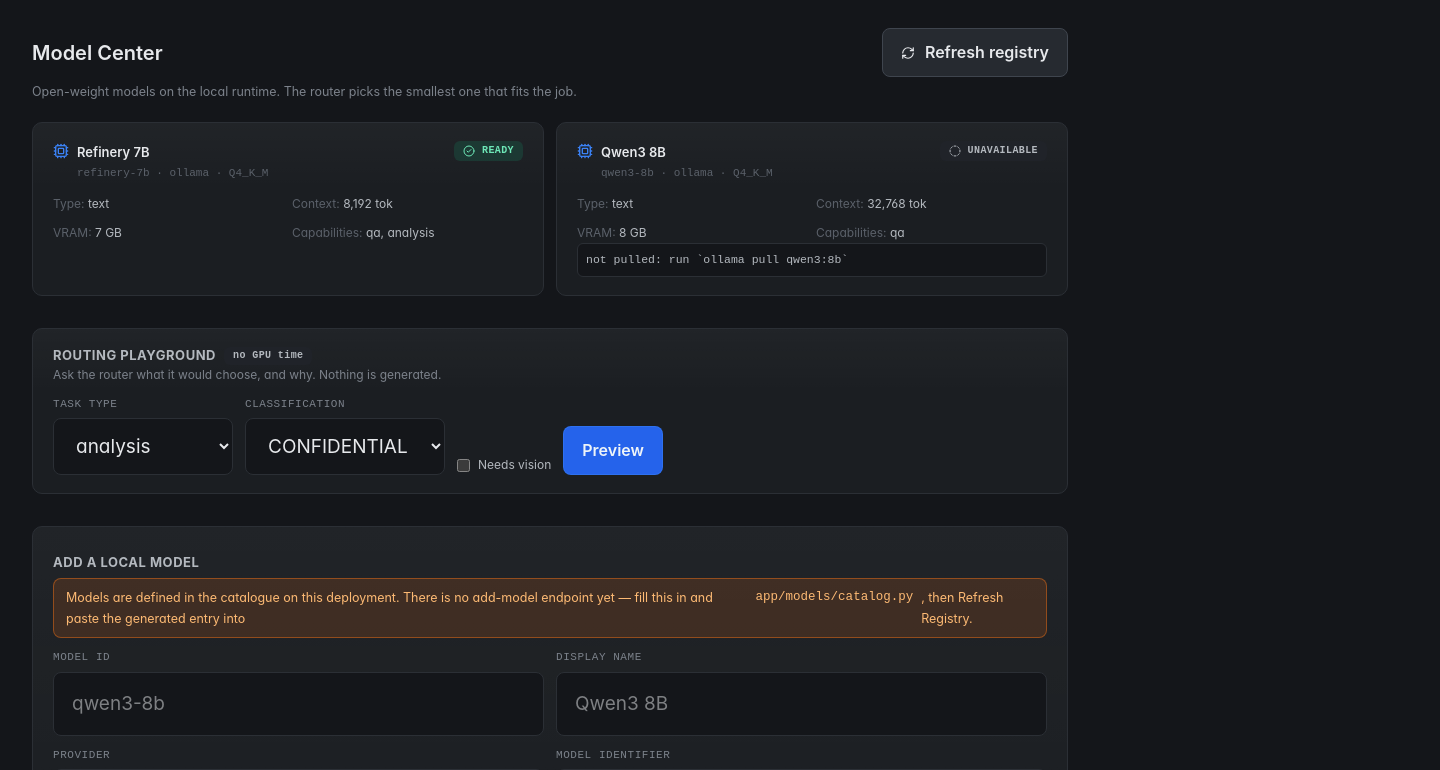
the Model Center › renders routing rejections with their stage and reason
Click the button "Preview": [613, 451] box [563,426,663,475]
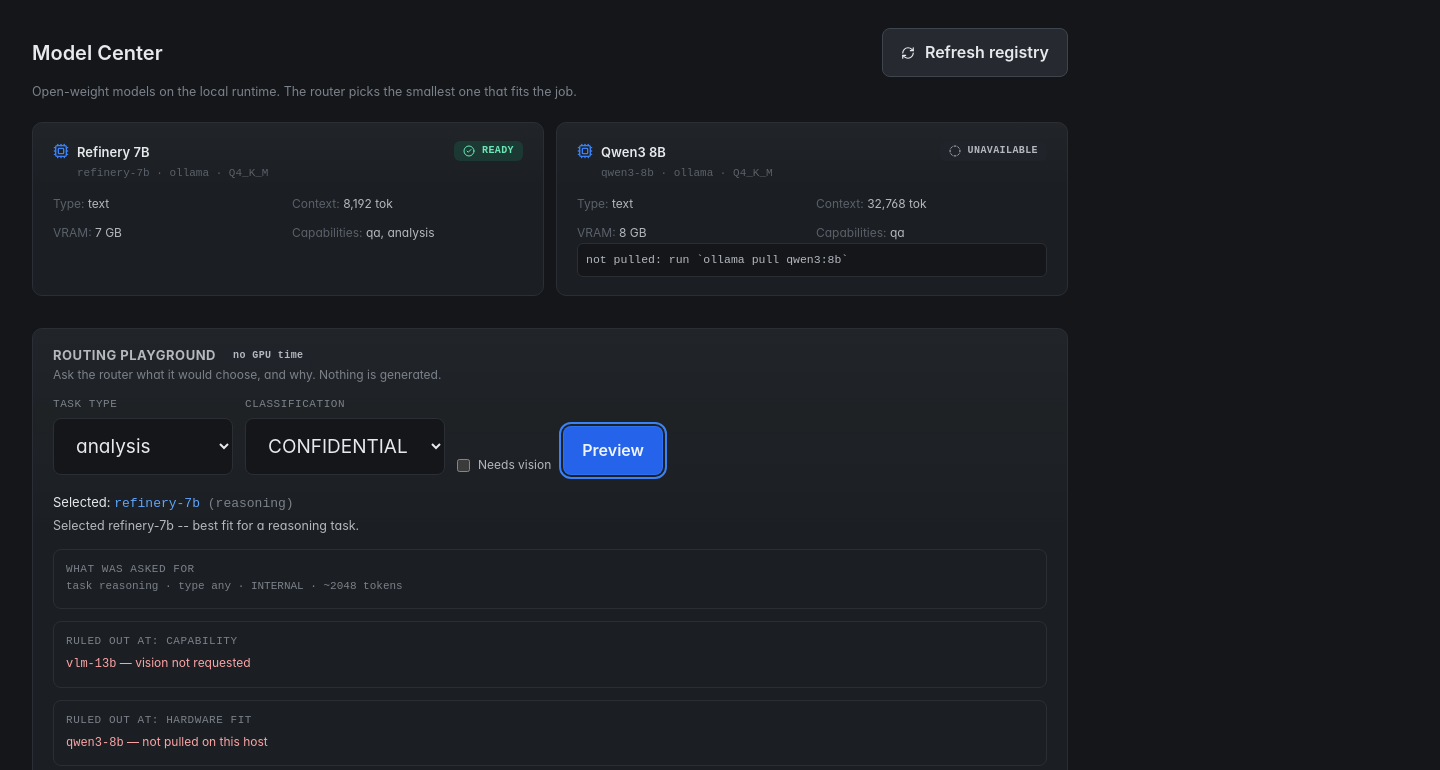
Result: the list item "vlm-13b — vision not requested" is shown at [66,655,251,671]
Result: the list item "qwen3-8b — not pulled on this host" is shown at [66,734,268,750]
Result: the text "Ruled out at: hardware fit" is shown at [66,714,252,726]
